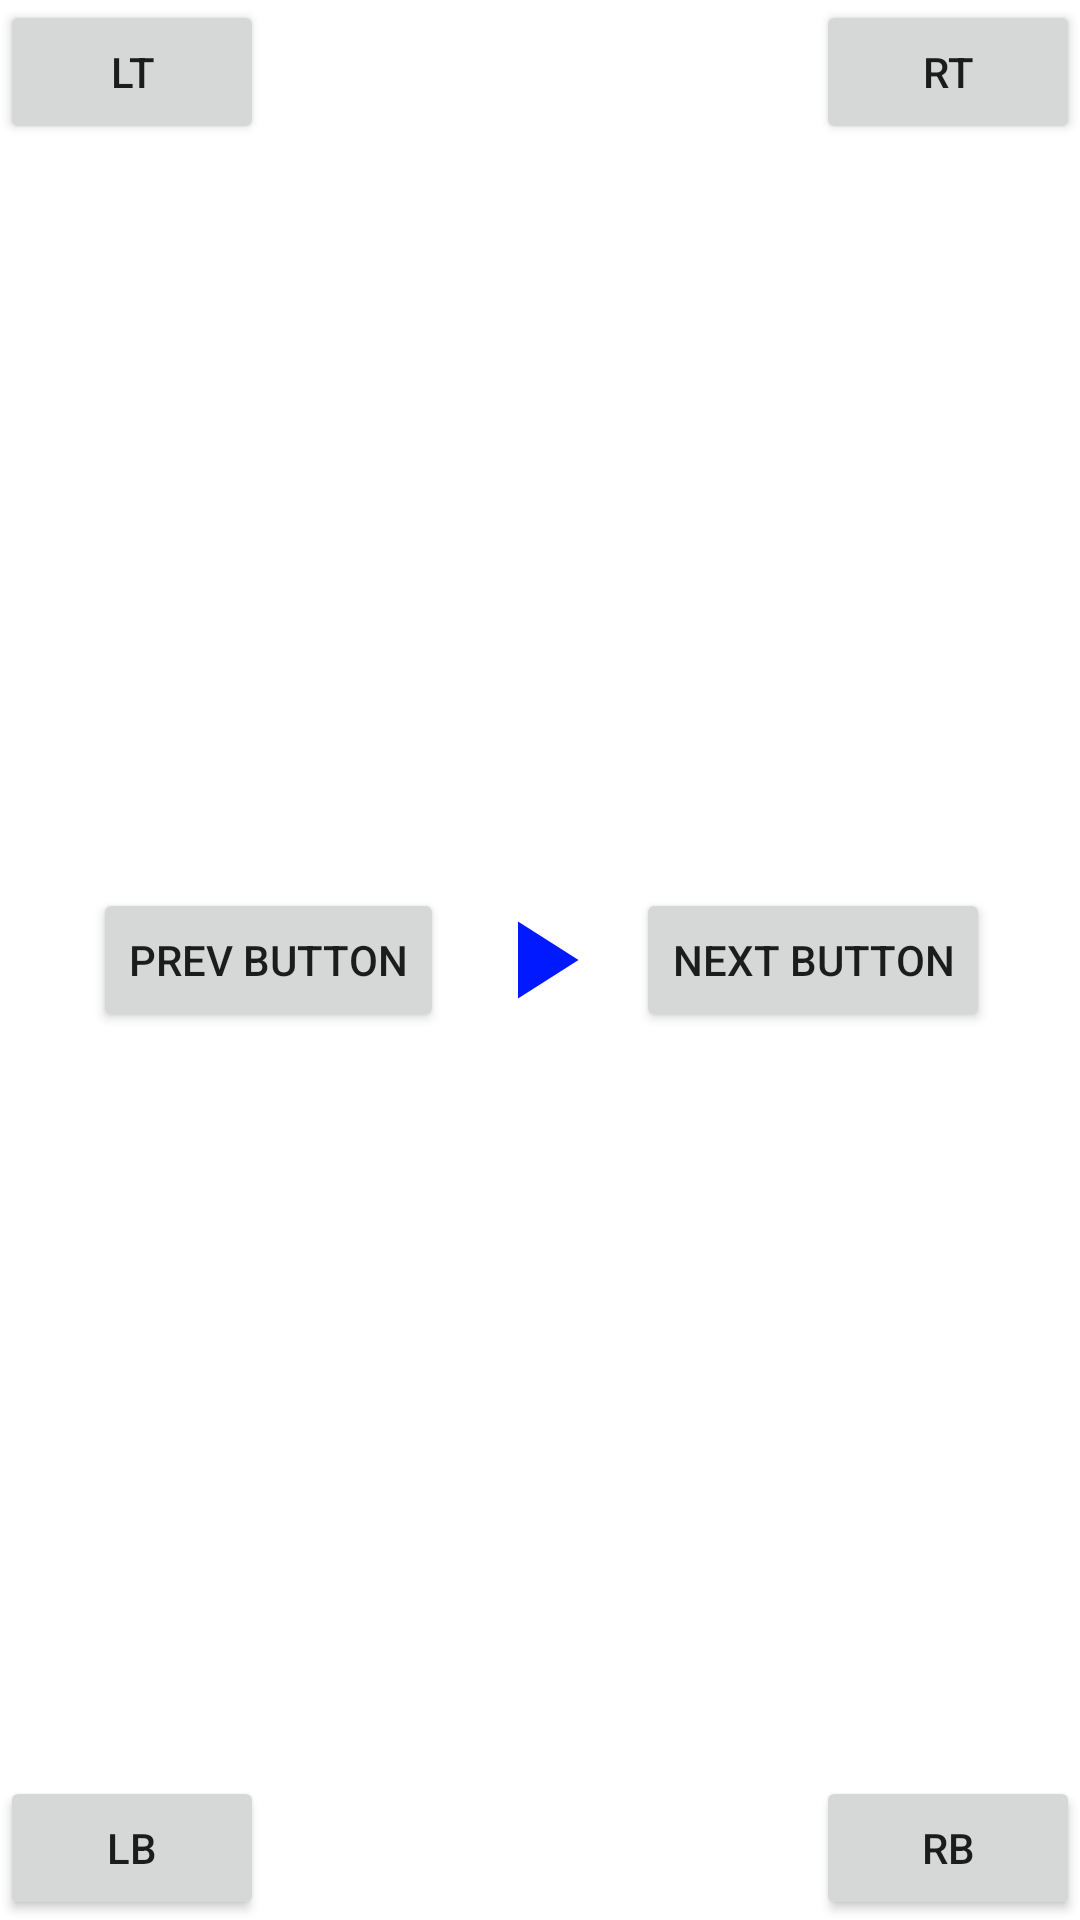

Named icons in this screenshot (1080x1920) and their bounding boxes, (x1, y1, x2, y2):
play arrow: (518, 921, 578, 999)
